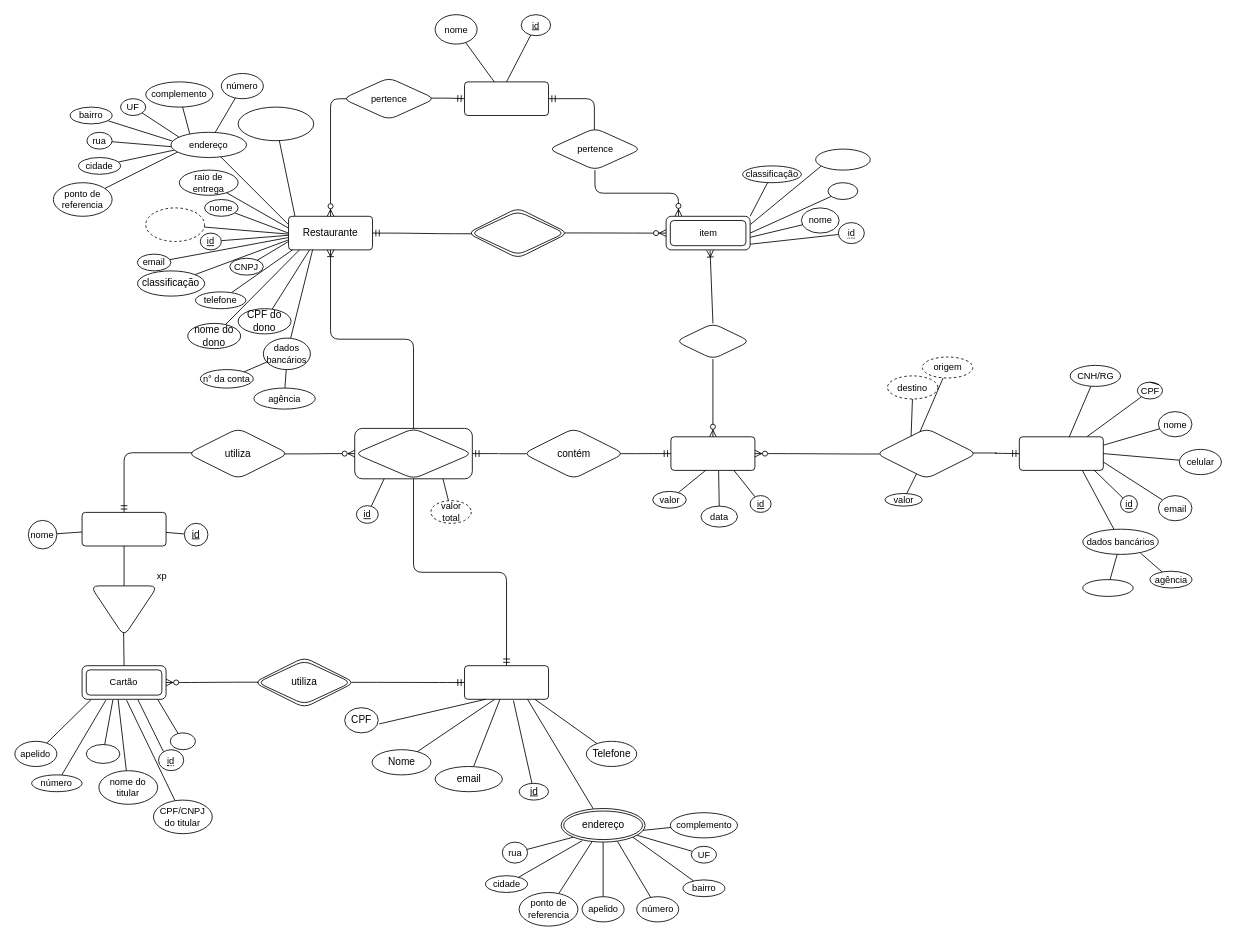
Image size: 1236x941. Some labels were removed from this diagram. Here are the shapes that lost their labels. From the top down, the centre of each, then its label:
At point 506,98: "Categoria".
At point 275,123: "horario de funcionamento".
At point 842,159: "descrição".
At point 842,191: "preço".
At point 175,224: "faixa de preço médio".
At point 517,232: "fornece".
At point 712,341: "tem".
At point 413,453: "compra".
At point 712,453: "pedido".
At point 926,453: "entrega".
At point 1060,453: "entregador".
At point 123,529: "forma de pagamento".
At point 1107,587: "n° conta".
At point 124,610: "É um".
At point 506,682: "Cliente".
At point 102,753: "função".
At point 182,741: "CVV".
